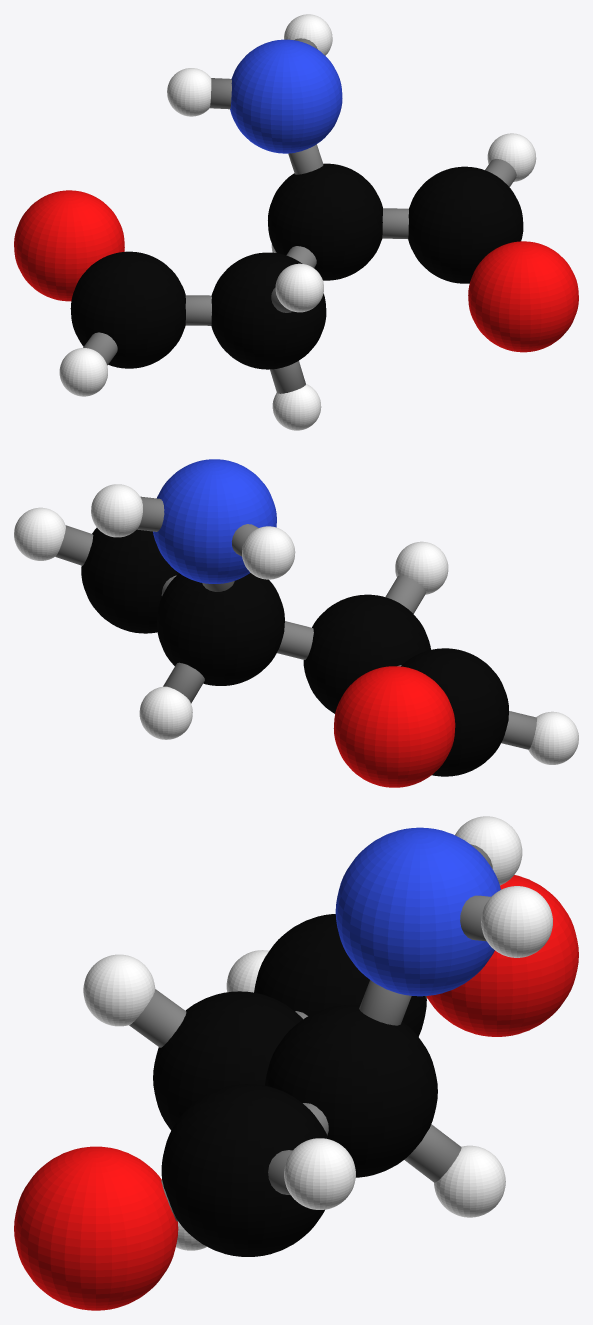
Rendered from ACIDO ASPARTICO.obj.
The picture shows the model from 3 angles, top to bottom: view 1: azimuth 30°, elevation 25°; view 2: azimuth 150°, elevation 25°; view 3: azimuth 270°, elevation 25°; orthographic projection. The views are drawn at different scales.
Parts seen in each view (by area): view 1: Carbon_ball_Sphere, Oxygen_ball_Sphere.002, Nitrogen_ball_Sphere.003, Hydrogen_ball_Sphere.001, Stick_Cylinder.003_Cylinder.003, Stick_Cylinder.006_Cylinder.006, Stick_Cylinder.004_Cylinder.004, Stick_Cylinder.002_Cylinder.002, Stick_Cylinder.010_Cylinder.010, Stick_Cylinder.007_Cylinder.007; view 2: Carbon_ball_Sphere, Hydrogen_ball_Sphere.001, Oxygen_ball_Sphere.002, Nitrogen_ball_Sphere.003, Stick_Cylinder.001_Cylinder.001, Stick_Cylinder.012_Cylinder.012, Stick_Cylinder.007_Cylinder.007, Stick_Cylinder_Cylinder, Stick_Cylinder.005_Cylinder.005, Stick_Cylinder.009_Cylinder.009; view 3: Carbon_ball_Sphere, Oxygen_ball_Sphere.002, Nitrogen_ball_Sphere.003, Hydrogen_ball_Sphere.001, Stick_Cylinder_Cylinder, Stick_Cylinder.005_Cylinder.005, Stick_Cylinder.002_Cylinder.002, Stick_Cylinder.009_Cylinder.009, Stick_Cylinder.012_Cylinder.012.
Boxes of the visible parts, <box> form: Carbon_ball_Sphere: <box>70,163,523,369</box>; Oxygen_ball_Sphere.002: <box>14,190,578,352</box>; Nitrogen_ball_Sphere.003: <box>230,39,342,153</box>; Hydrogen_ball_Sphere.001: <box>59,14,536,430</box>; Stick_Cylinder.003_Cylinder.003: <box>382,208,408,238</box>; Stick_Cylinder.006_Cylinder.006: <box>185,295,211,325</box>; Stick_Cylinder.004_Cylinder.004: <box>270,361,305,393</box>; Stick_Cylinder.002_Cylinder.002: <box>288,144,323,174</box>; Stick_Cylinder.010_Cylinder.010: <box>210,78,231,109</box>; Stick_Cylinder.007_Cylinder.007: <box>83,332,117,365</box>; Carbon_ball_Sphere: <box>81,527,508,776</box>; Hydrogen_ball_Sphere.001: <box>14,484,578,764</box>; Oxygen_ball_Sphere.002: <box>333,666,455,787</box>; Nitrogen_ball_Sphere.003: <box>153,459,276,583</box>; Stick_Cylinder.001_Cylinder.001: <box>277,621,313,659</box>; Stick_Cylinder.012_Cylinder.012: <box>55,525,93,565</box>; Stick_Cylinder.007_Cylinder.007: <box>501,711,536,749</box>; Stick_Cylinder_Cylinder: <box>163,662,204,703</box>; Stick_Cylinder.005_Cylinder.005: <box>385,575,426,613</box>; Stick_Cylinder.009_Cylinder.009: <box>137,496,164,531</box>; Carbon_ball_Sphere: <box>153,914,437,1256</box>; Oxygen_ball_Sphere.002: <box>14,875,578,1310</box>; Nitrogen_ball_Sphere.003: <box>335,827,500,996</box>; Hydrogen_ball_Sphere.001: <box>83,816,552,1250</box>; Stick_Cylinder_Cylinder: <box>404,1124,461,1182</box>; Stick_Cylinder.005_Cylinder.005: <box>129,989,186,1047</box>; Stick_Cylinder.002_Cylinder.002: <box>359,980,411,1025</box>; Stick_Cylinder.009_Cylinder.009: <box>460,895,490,941</box>; Stick_Cylinder.012_Cylinder.012: <box>268,1150,292,1195</box>.
Size of the model in its own units: 7.43 by 4.51 by 5.02.
